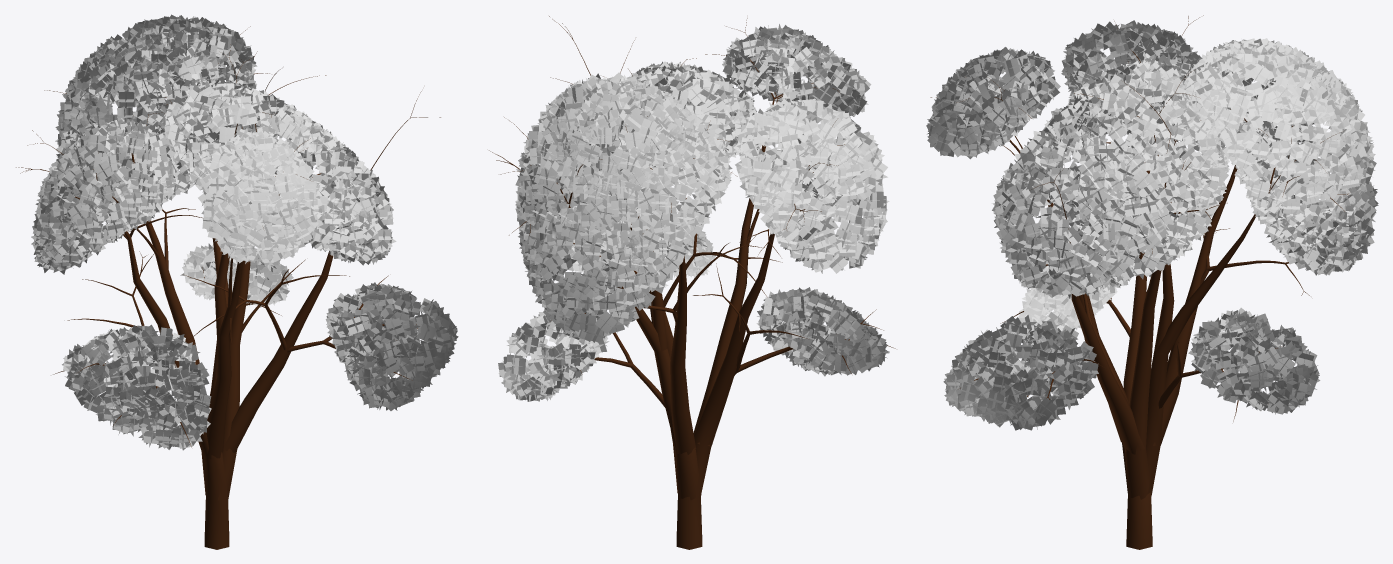
File: Tree_4.fbx
The picture shows the model from 3 angles, left to right: view 1: azimuth 30°, elevation 25°; view 2: azimuth 150°, elevation 25°; view 3: azimuth 270°, elevation 25°; orthographic projection. The views are drawn at different scales.
Visible parts, largest first — view 1: Leaves_4, Trunk_4; view 2: Leaves_4, Trunk_4; view 3: Leaves_4, Trunk_4.
Part boxes in pixels (<box>): Leaves_4: <box>31,14,458,450</box>; Trunk_4: <box>16,26,440,549</box>; Leaves_4: <box>498,24,889,401</box>; Trunk_4: <box>489,16,895,549</box>; Leaves_4: <box>926,20,1378,430</box>; Trunk_4: <box>930,15,1348,549</box>.
Size of the model in its own units: 1890 by 2345 by 1923.
